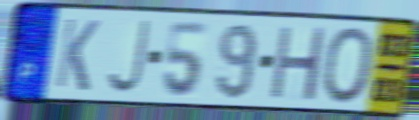5: (161, 18, 207, 99)
9: (212, 21, 259, 102)
H: (268, 23, 329, 104)
J: (104, 17, 153, 96)
K: (52, 15, 102, 94)
O: (319, 25, 376, 107)
